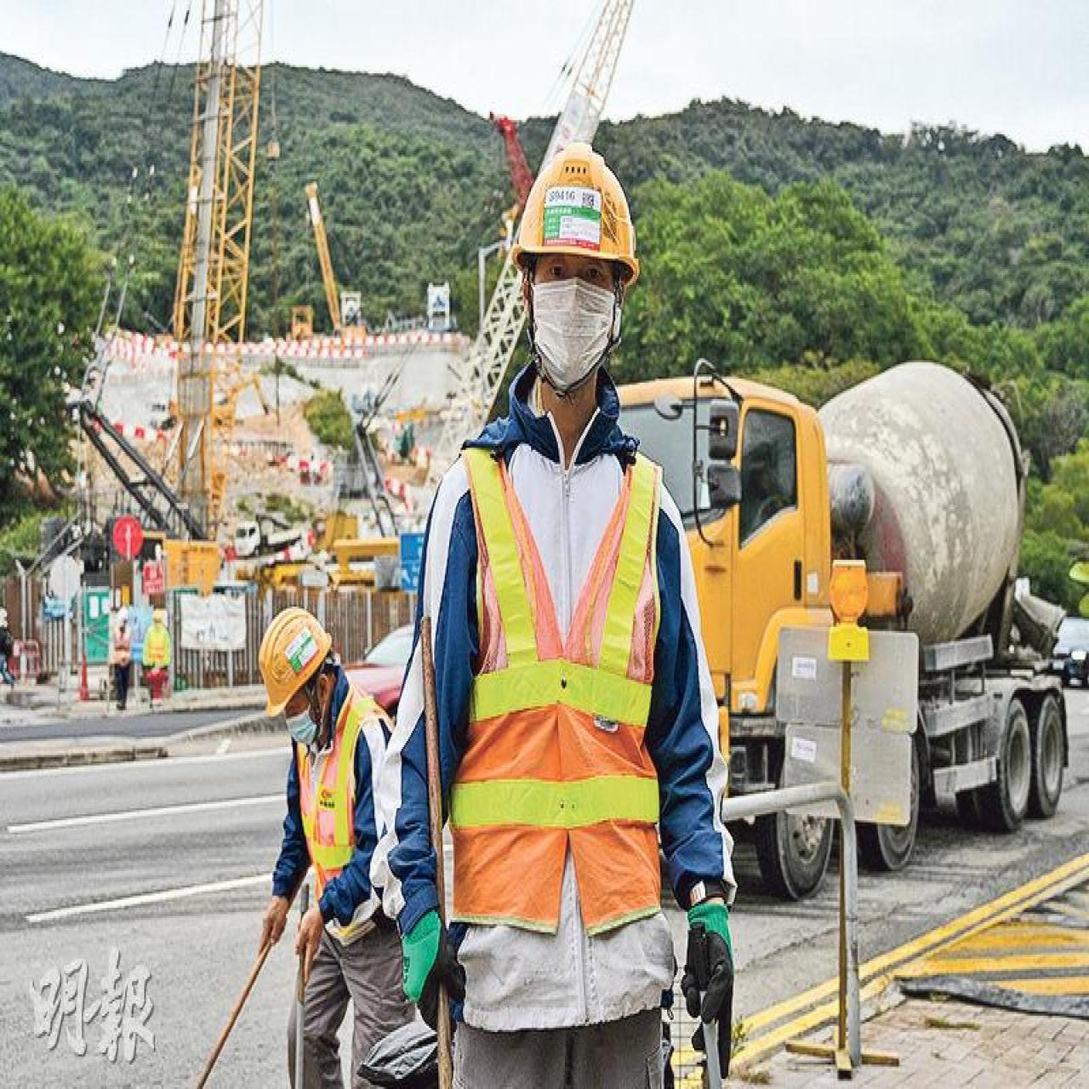Person: (372, 120, 760, 1089), (238, 586, 442, 1089)
Safety_Vest: (432, 419, 691, 943), (291, 684, 385, 935)
